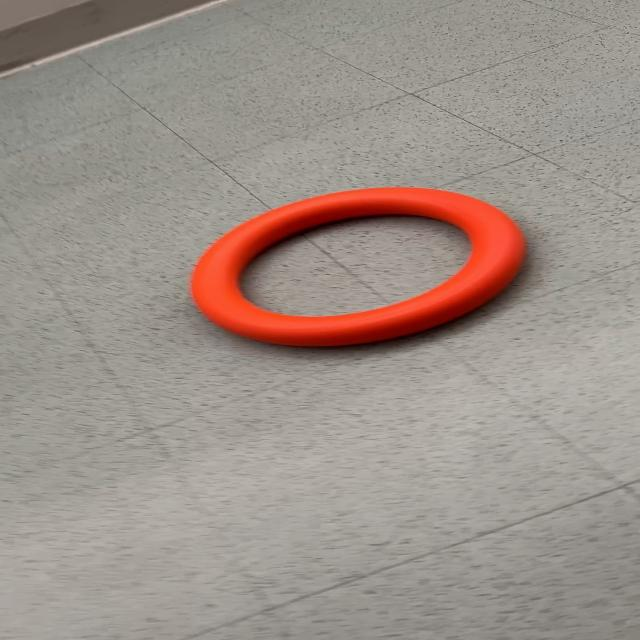note: (188, 185, 528, 349)
